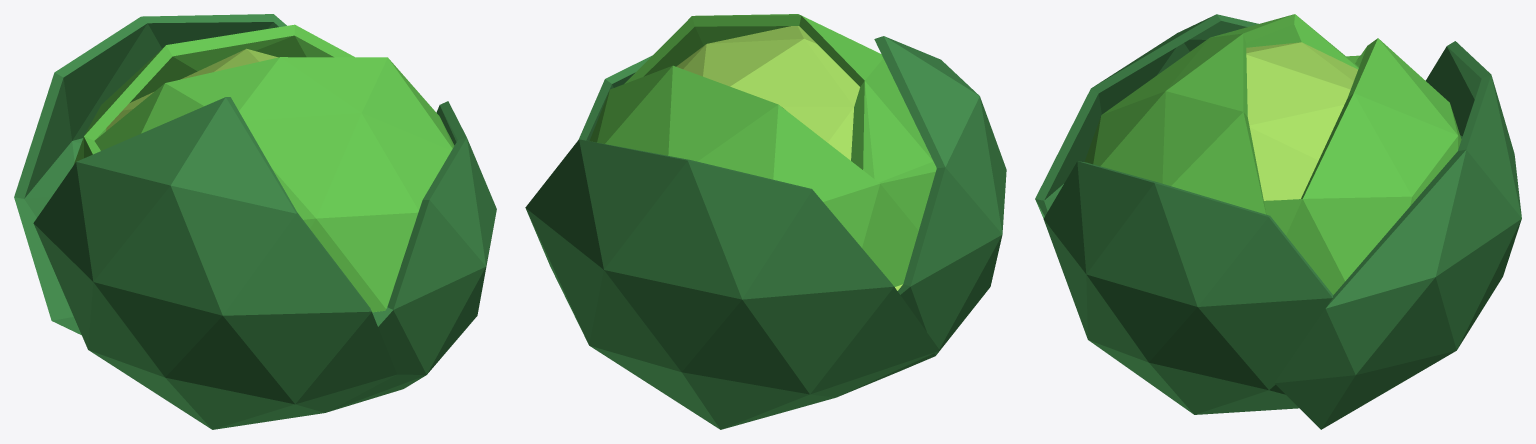
The model's file is Cabbage_S.fbx.
3 renders of one model, left to right at view 1: azimuth 30°, elevation 25°; view 2: azimuth 150°, elevation 25°; view 3: azimuth 270°, elevation 25°, orthographic. The views are drawn at different scales.
Parts seen in each view (by area): view 1: Cabbage S; view 2: Cabbage S; view 3: Cabbage S.
Boxes of the visible parts, bbox=[...] form: Cabbage S: bbox=[14, 14, 496, 429]; Cabbage S: bbox=[525, 14, 1006, 429]; Cabbage S: bbox=[1035, 14, 1521, 429].
Size of the model in its own units: 23.94 by 20.15 by 25.95.
